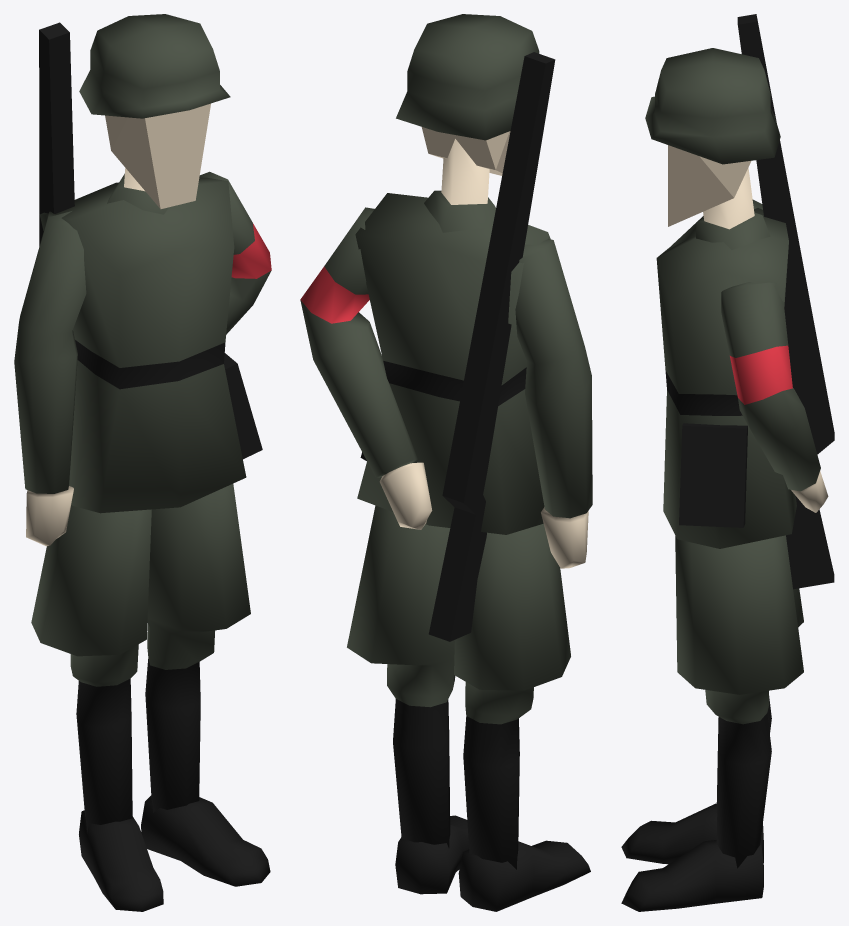
Rendered from mesh_NaziSoldier.fbx.
3 renders of one model, left to right at view 1: azimuth 30°, elevation 25°; view 2: azimuth 150°, elevation 25°; view 3: azimuth 270°, elevation 25°, orthographic. The views are drawn at different scales.
Visible parts, largest first — view 1: mesh_NaziSoldier; view 2: mesh_NaziSoldier; view 3: mesh_NaziSoldier.
Boxes of the visible parts, x1,y1,x2,y2 form: mesh_NaziSoldier: (14,14,271,911); mesh_NaziSoldier: (300,14,592,911); mesh_NaziSoldier: (621,14,834,911).
Bounding box in the file's own units: 32.97 × 100 × 23.6.
